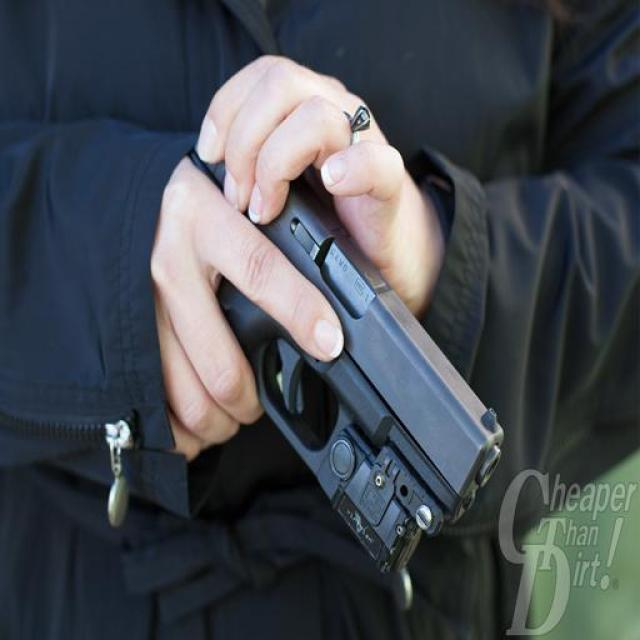pistol: (174, 121, 496, 603)
